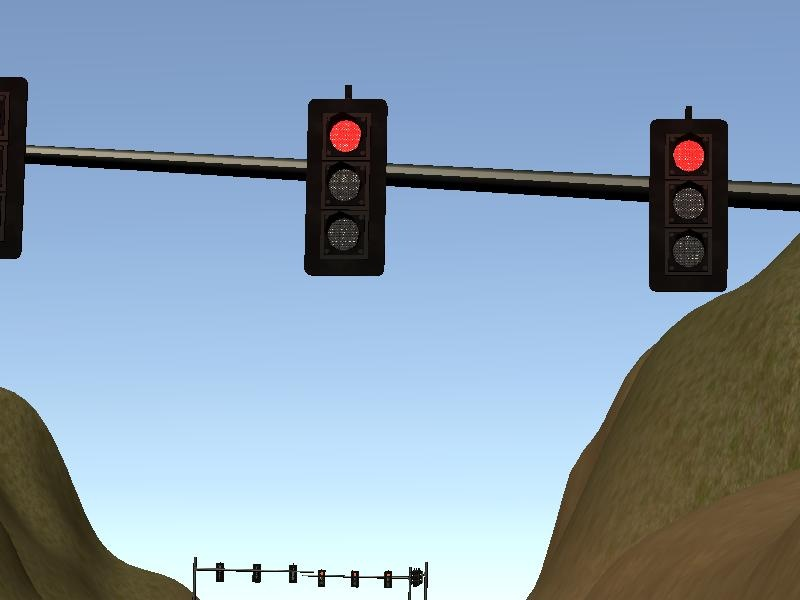RED: (304, 96, 388, 276), (649, 118, 730, 294)
